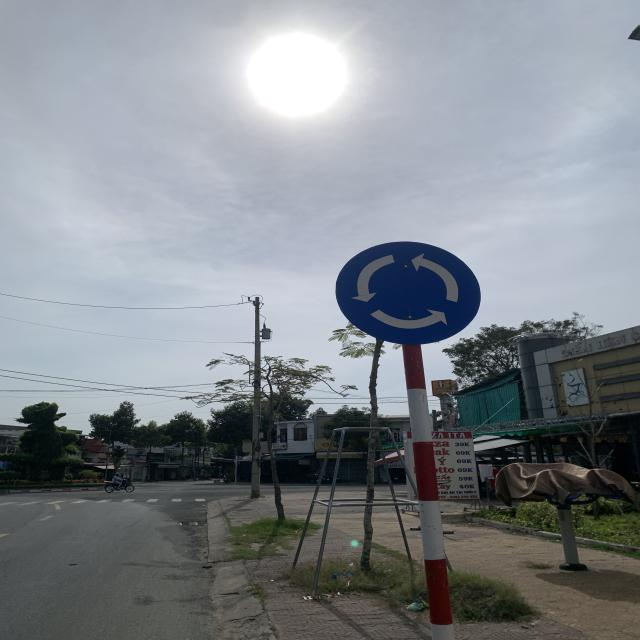Xe_Bus: (334, 238, 482, 346)
